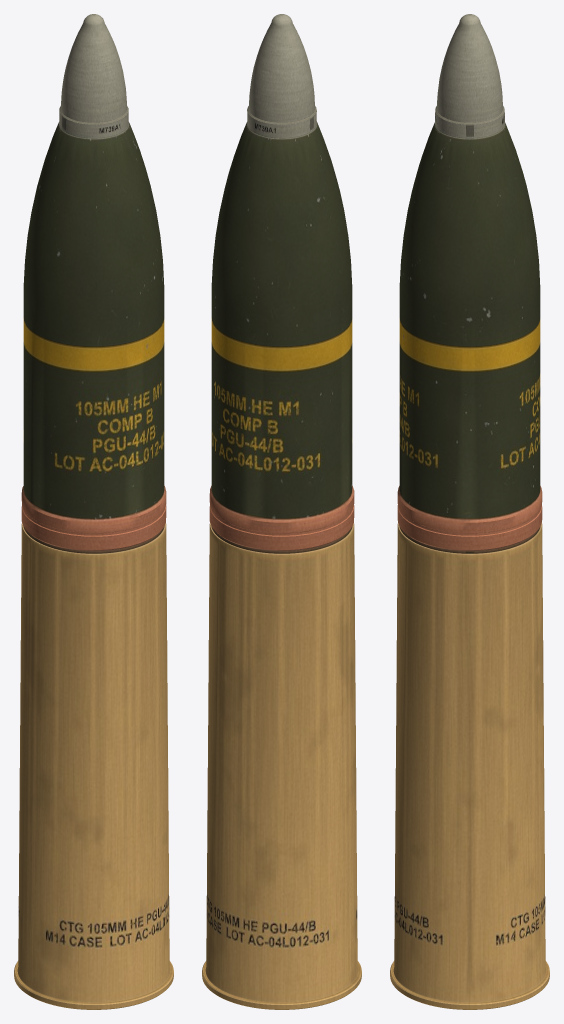
3 views of the same model, side by side, from view 1: azimuth 30°, elevation 25°; view 2: azimuth 150°, elevation 25°; view 3: azimuth 270°, elevation 25° (orthographic).
Parts seen in each view (by area): view 1: Capsula_105mm, Projetil_105mm; view 2: Capsula_105mm, Projetil_105mm; view 3: Capsula_105mm, Projetil_105mm.
Boxes of the visible parts, box(x1,y1,x2,y2) form: Capsula_105mm: box(14, 523, 173, 1009); Projetil_105mm: box(21, 14, 166, 553); Capsula_105mm: box(202, 523, 361, 1009); Projetil_105mm: box(209, 14, 354, 553); Capsula_105mm: box(390, 522, 549, 1009); Projetil_105mm: box(397, 14, 542, 553).
Bounding box in the file's own units: 0.119 × 0.79 × 0.119.
Materials: 2 (2 with a texture image).
